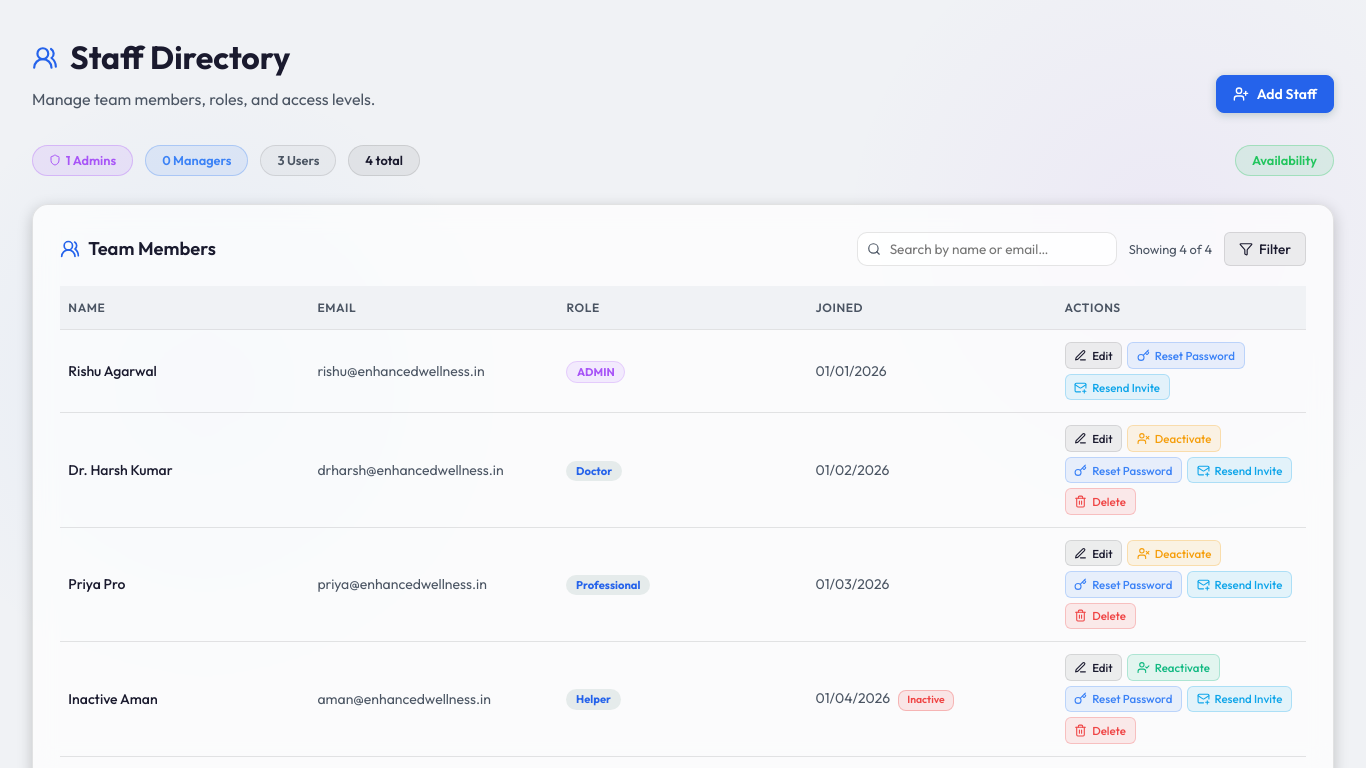
<Staff /> — row action buttons (#618) › clicking Edit opens the edit modal
The image size is (1366, 768).
expect the text "Dr. Harsh Kumar" is shown: met, box [60, 413, 309, 527]
Click the button with test id "staff-action-edit-2": {"x": 1094, "y": 439} [1065, 425, 1122, 452]
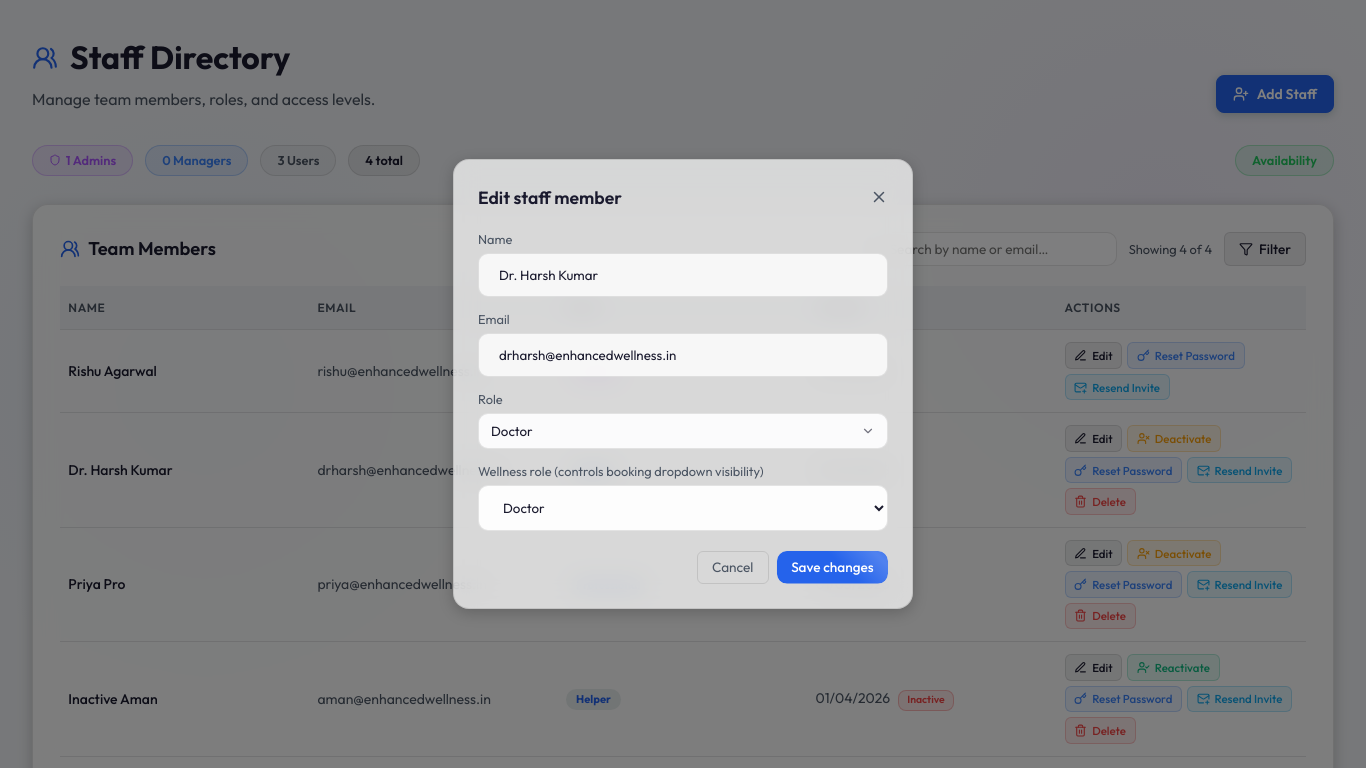
expect the element with test id "staff-edit-modal" is shown: met
